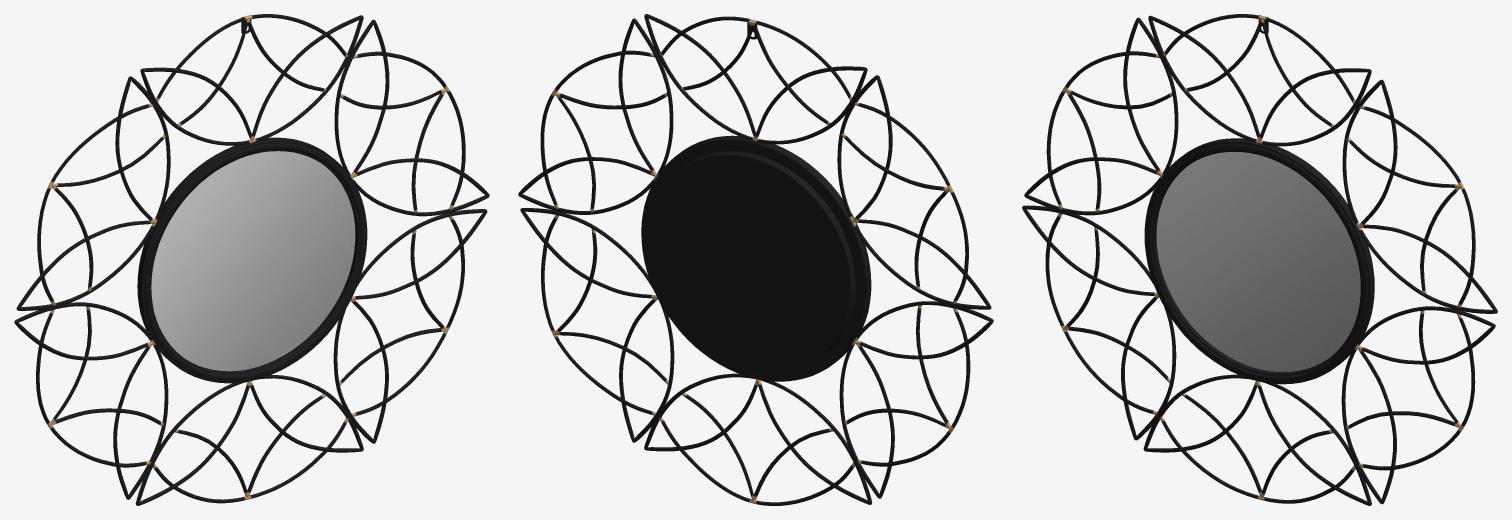
The model's file is abo-B073WHB43V.glb.
3 views of the same model, side by side, from view 1: azimuth 30°, elevation 25°; view 2: azimuth 150°, elevation 25°; view 3: azimuth 330°, elevation 25° (orthographic).
Bounding box in the file's own units: 0.797 × 0.775 × 0.028.
Materials: 1 (1 with a texture image).
